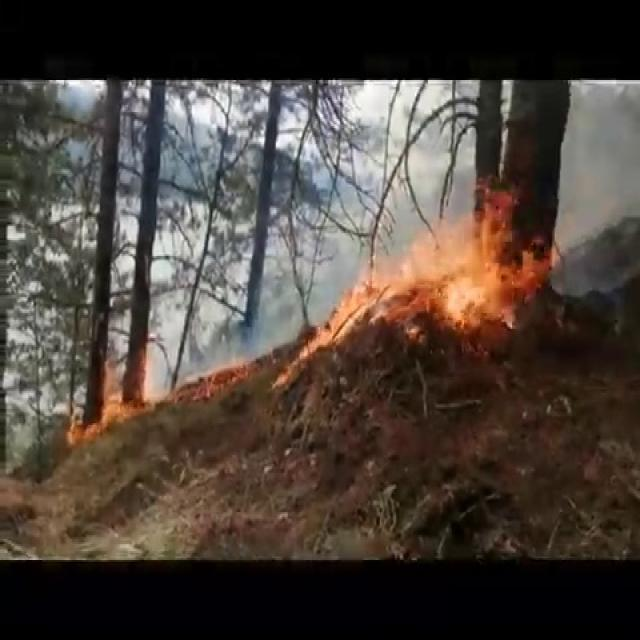Fire: (328, 174, 556, 343), (68, 336, 168, 450)
Smoke: (549, 79, 640, 248)
